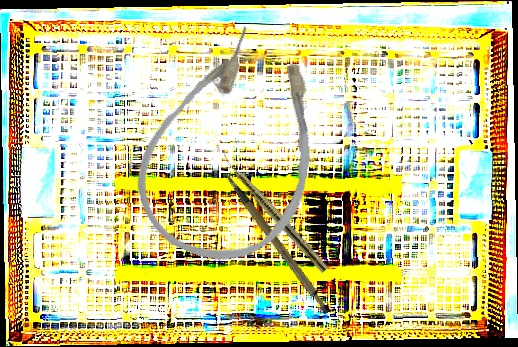Cannula: (115, 9, 356, 285)
Handpiece: (215, 148, 331, 274)
Scalpel Handle: (223, 158, 334, 326)
